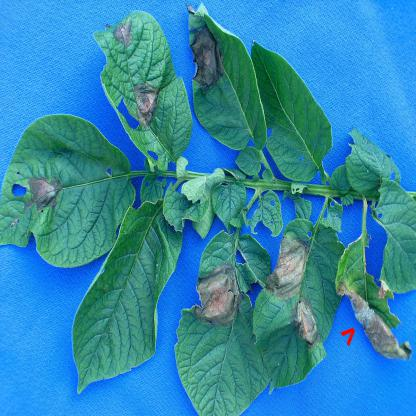potato leaf early blight: (0, 110, 136, 266), (253, 218, 353, 396), (191, 226, 285, 412), (94, 8, 197, 169), (180, 1, 271, 160), (336, 226, 416, 368)
